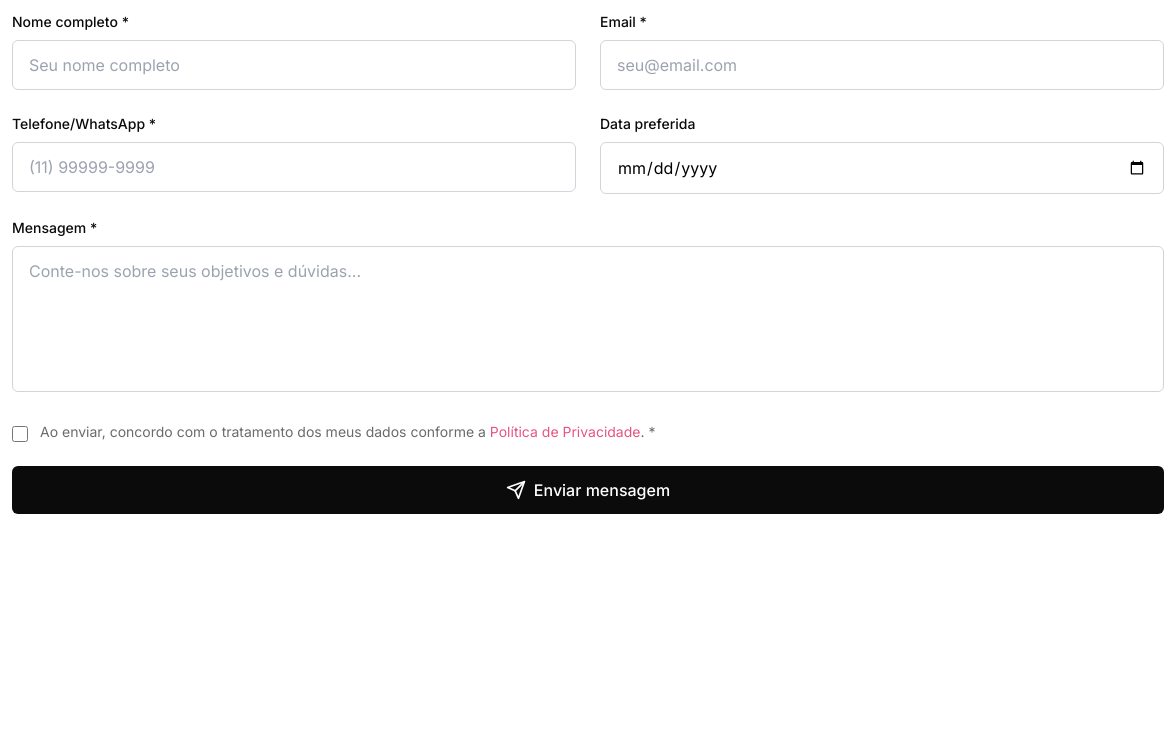
ContactForm › submits form successfully
// Fill form
Type "João Silva" into the field labelled "Nome completo *".
click(294, 65); type("João Silva")  # box [12,40,576,90]
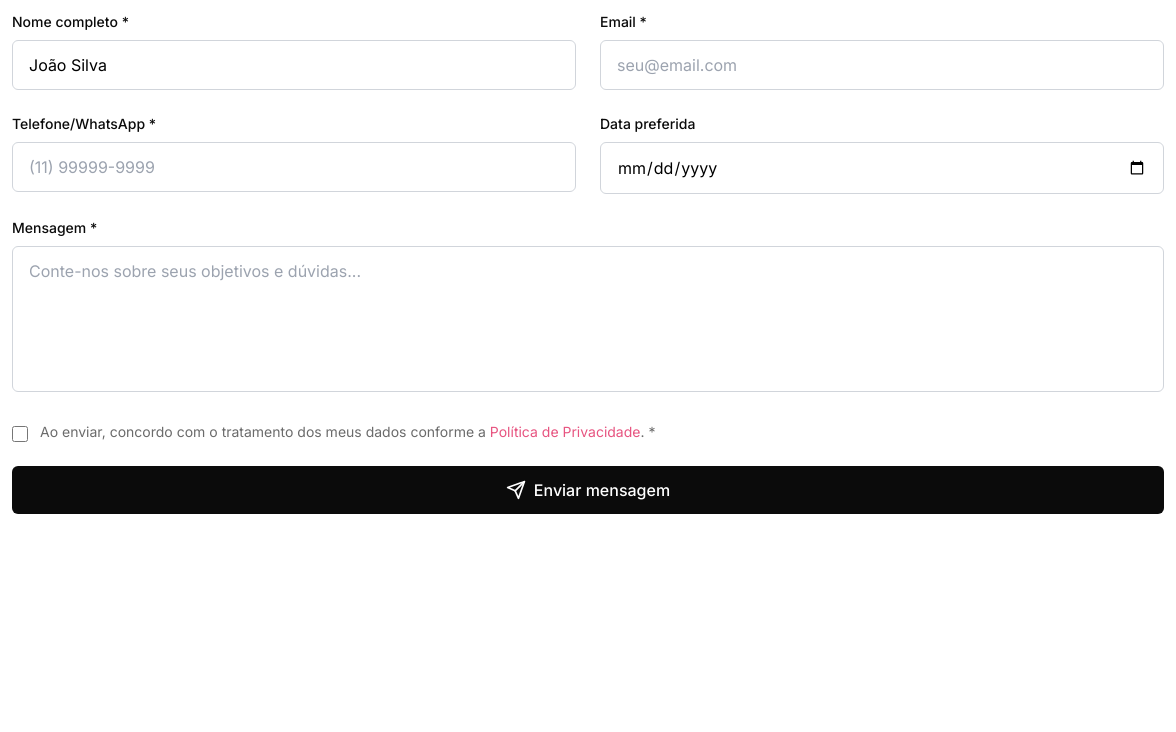
Type "joao@email.com" into the field labelled "Email *".
click(882, 65); type("joao@email.com")  # box [600,40,1164,90]
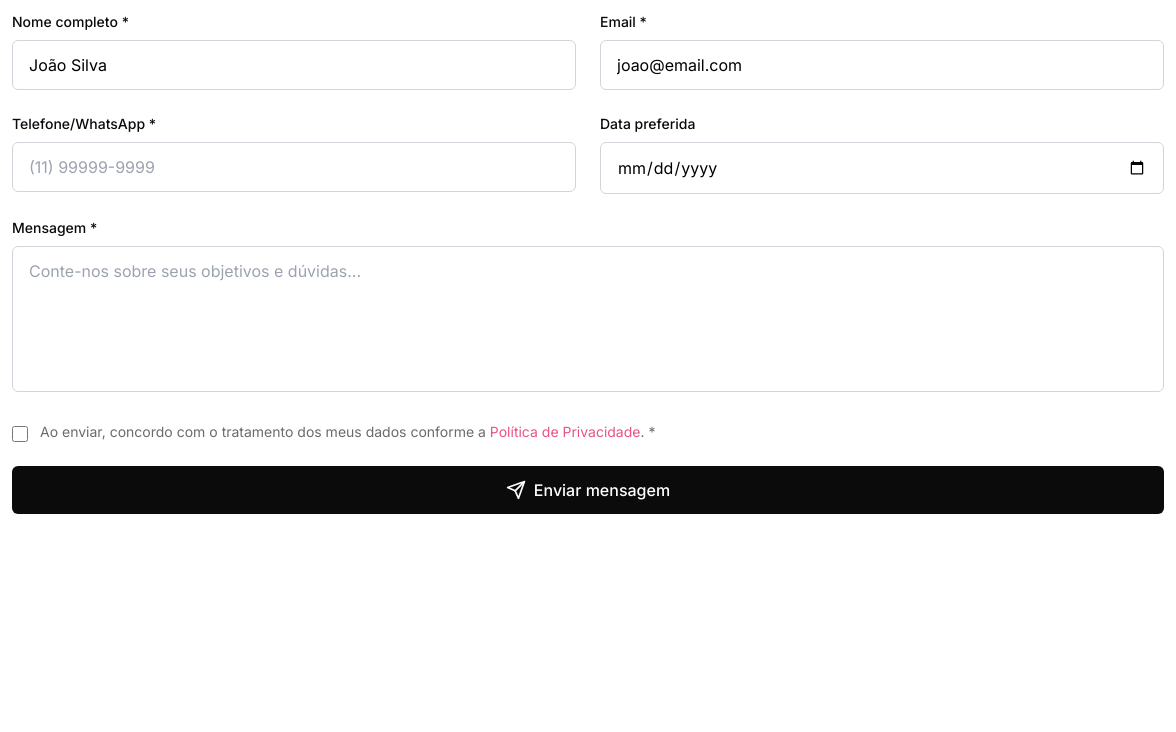
Type "11999999999" into the field labelled "Telefone/WhatsApp *".
click(294, 167); type("11999999999")  # box [12,142,576,192]
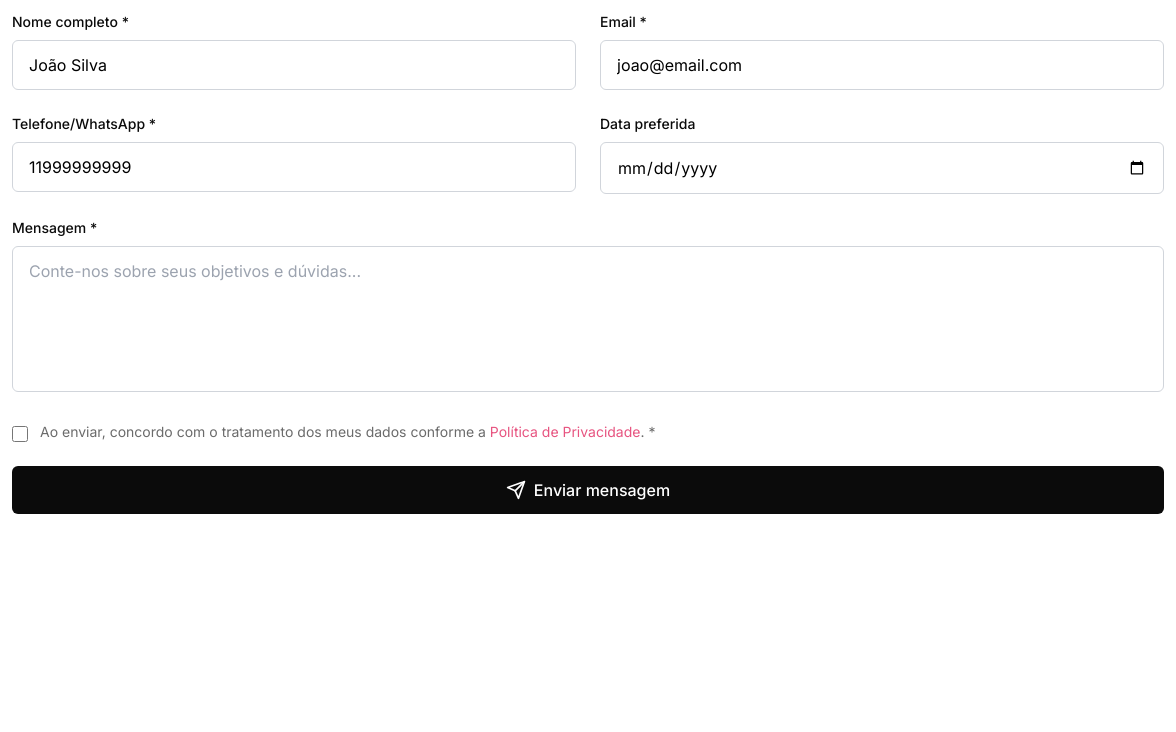
Type "Gostaria de agendar uma consulta" into the text box labelled "Mensagem *".
click(588, 319); type("Gostaria de agendar uma consulta")  # box [12,246,1164,392]
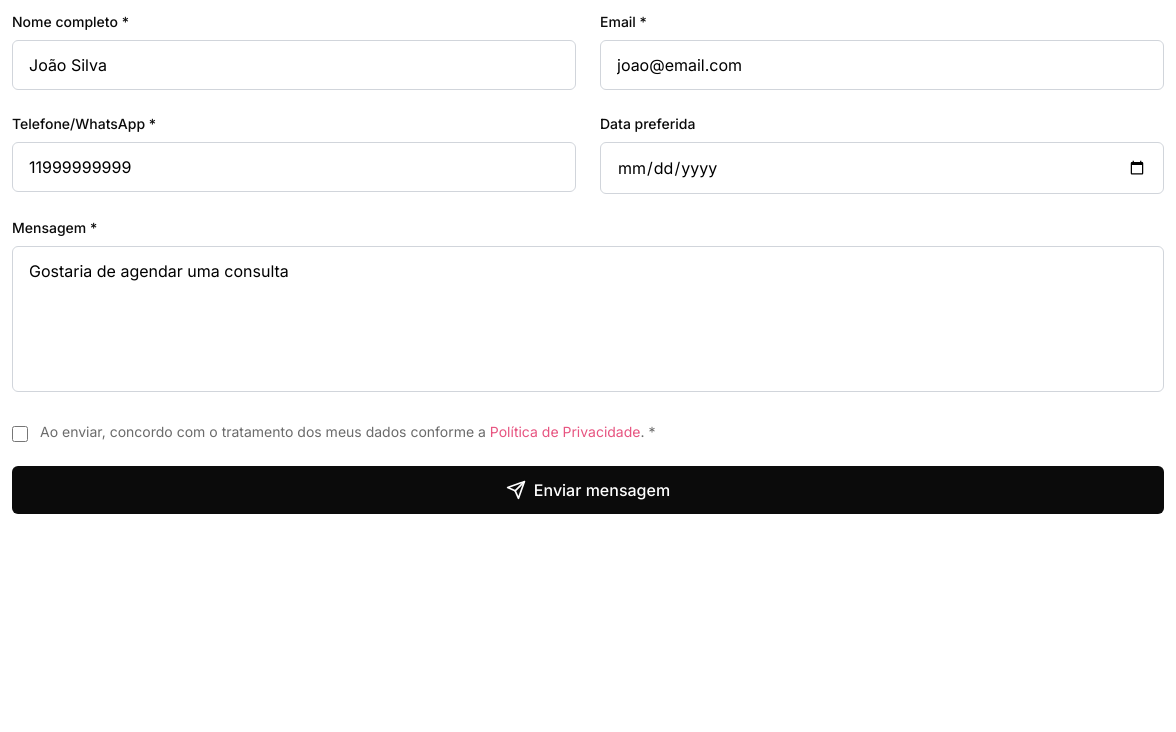
Click the checkbox labelled "concordo com o tratamento".
click(20, 434)  # box [12,426,28,442]
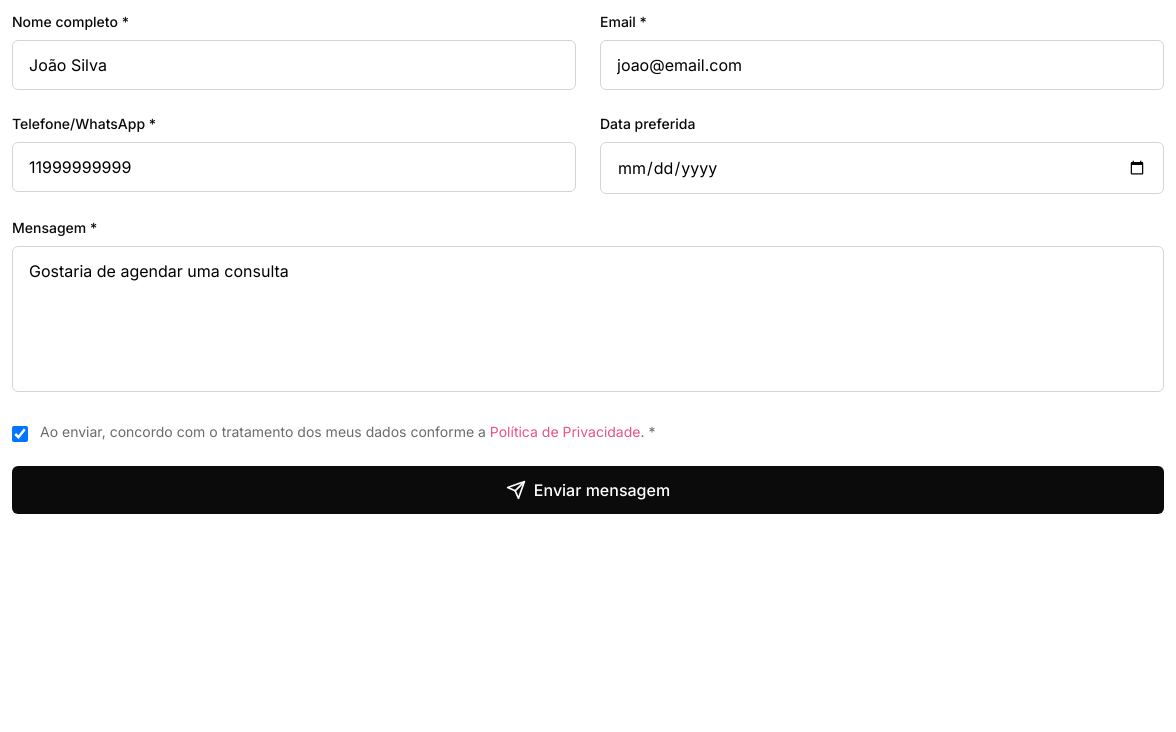
// Submit form
Click the button "Enviar mensagem".
click(588, 490)  # box [12,466,1164,514]
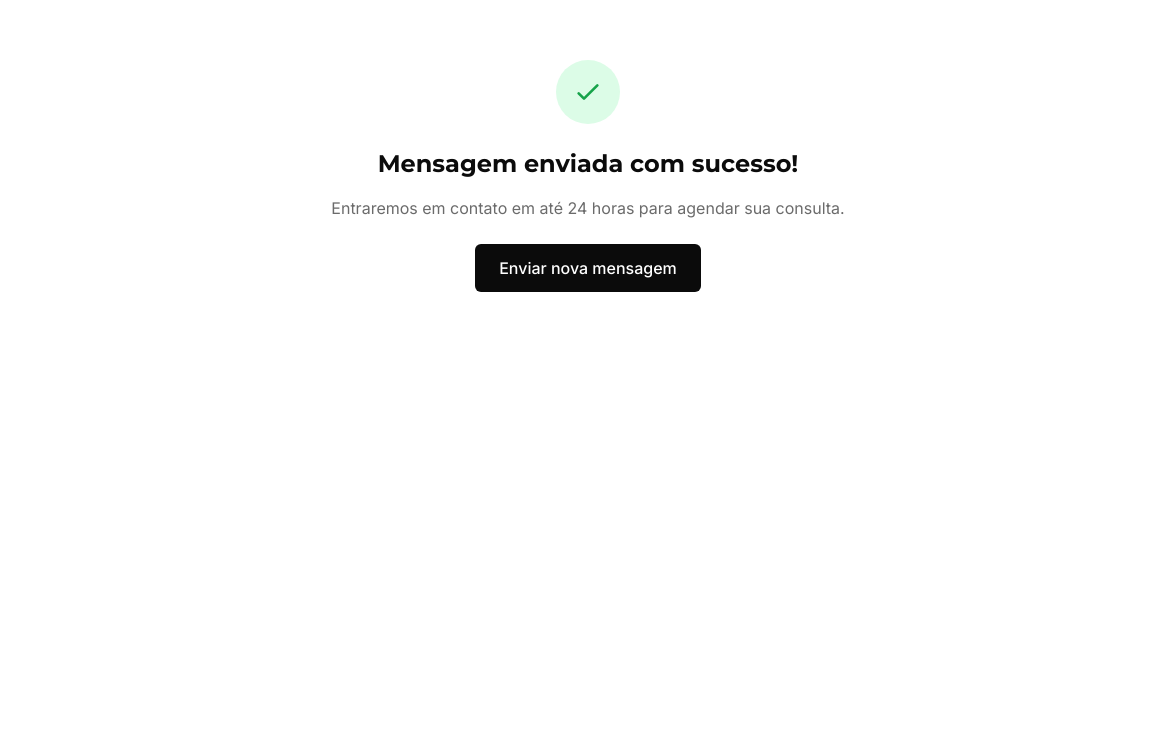
Now the heading "Mensagem enviada com sucesso!" is shown, box [378,149,798,178]
